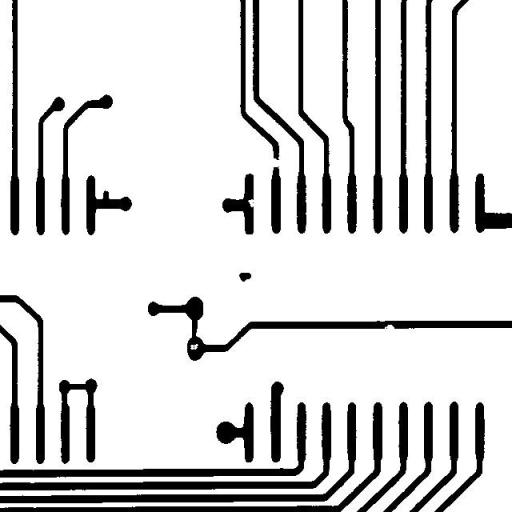copper: (232, 265, 258, 289)
mousebite: (376, 316, 402, 338), (240, 192, 261, 214)
open: (262, 150, 287, 174)
pin-hole: (182, 336, 206, 357)
short: (184, 307, 205, 347), (58, 376, 96, 397)
spur: (94, 182, 117, 209)
